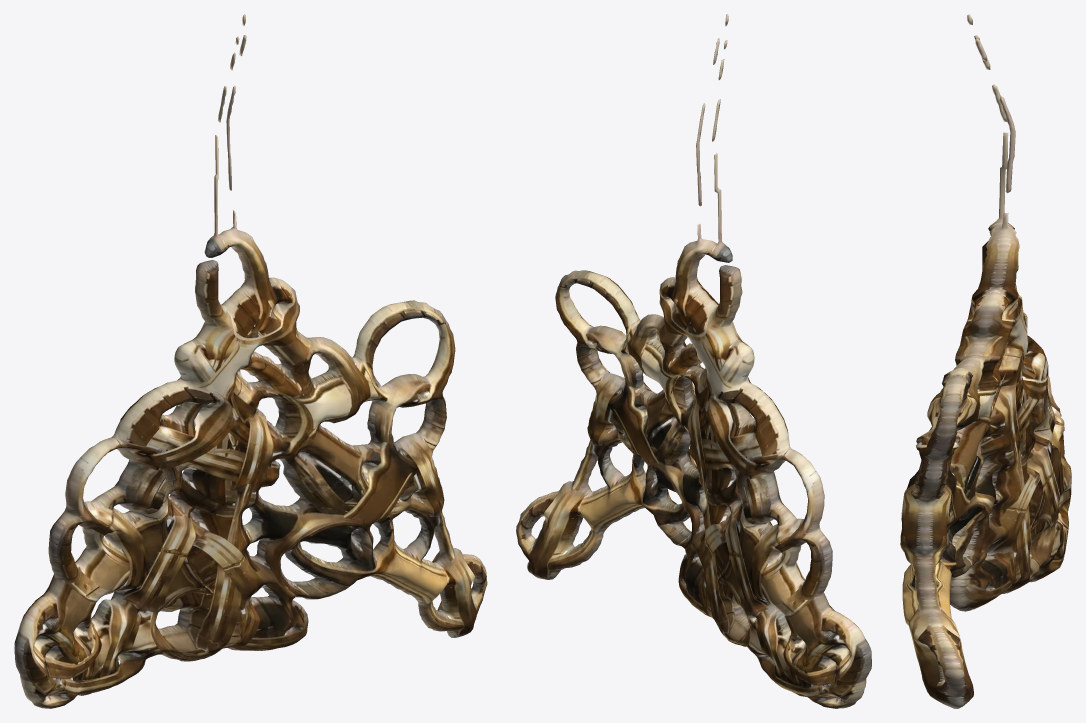
File: hy3d-mov-014.glb
The picture shows the model from 3 angles, left to right: view 1: azimuth 30°, elevation 25°; view 2: azimuth 150°, elevation 25°; view 3: azimuth 270°, elevation 25°; orthographic projection. The views are drawn at different scales.
Parts seen in each view (by area): view 1: world; view 2: world; view 3: world.
Part boxes in pixels (box(x1,y1,x2,y2)): world: box(14, 14, 487, 708); world: box(516, 14, 871, 708); world: box(900, 14, 1071, 708).
Size of the model in its own units: 1.55 by 2.39 by 0.598.
1 material, 1 textured.
